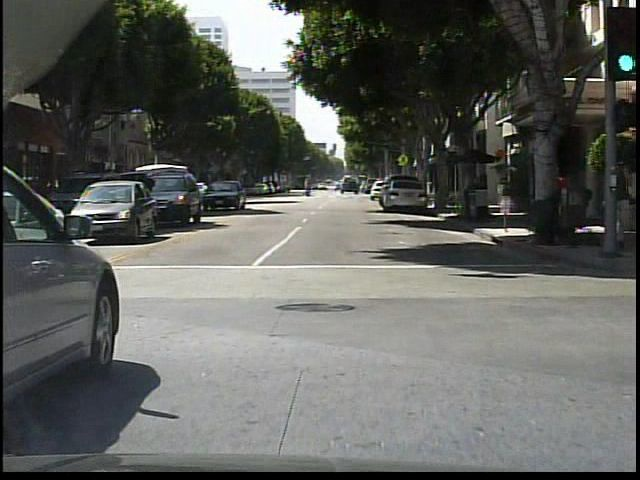person: (600, 157, 623, 247), (554, 169, 570, 235), (465, 169, 482, 221), (302, 178, 312, 197)
